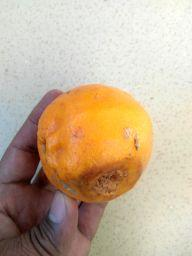Unripe: (37, 85, 155, 201)
